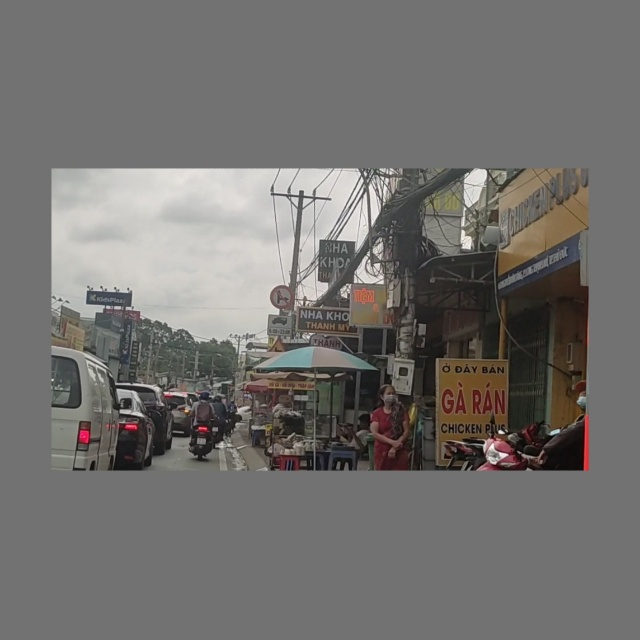P.139: (266, 280, 298, 312)
S.505a*Xe tai: (264, 312, 297, 341)
W.205b: (262, 337, 294, 359)
